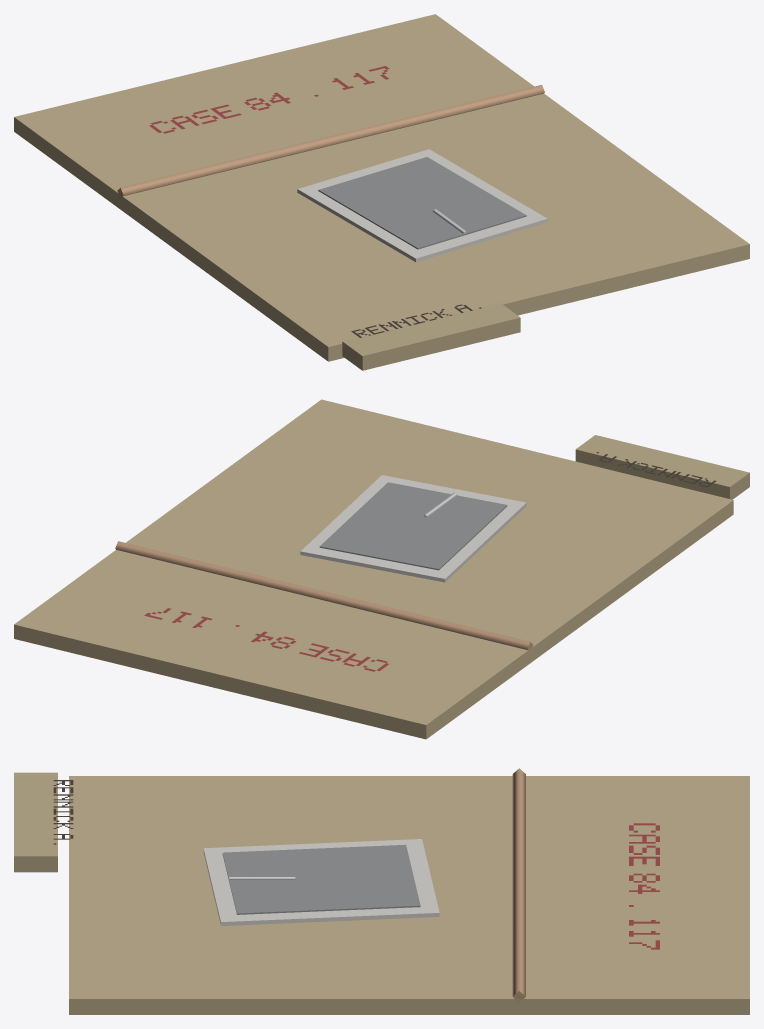
Rendered from rennick_case_file_a.glb.
The picture shows the model from 3 angles, top to bottom: view 1: azimuth 30°, elevation 25°; view 2: azimuth 150°, elevation 25°; view 3: azimuth 270°, elevation 25°; orthographic projection. The views are drawn at different scales.
Visible parts, largest first — view 1: body; view 2: body; view 3: body.
Boxes of the visible parts, left/top/right/bottom form: body: left=14, top=14, right=749, bottom=370; body: left=14, top=399, right=749, bottom=739; body: left=14, top=768, right=749, bottom=1014.
Bounding box in the file's own units: 0.24 × 0.0135 × 0.335.
